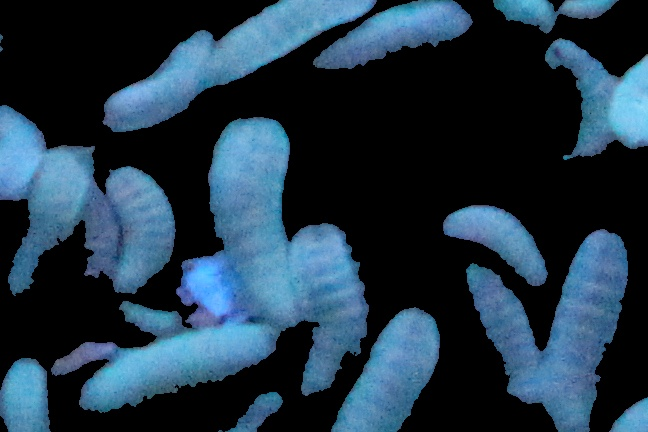larvae: (207, 118, 298, 326), (77, 325, 279, 412), (542, 229, 628, 432), (336, 305, 446, 432), (212, 1, 372, 83), (12, 145, 100, 291), (287, 220, 374, 356), (312, 2, 472, 72), (101, 30, 211, 131), (99, 158, 178, 290), (467, 265, 541, 401), (545, 39, 617, 164), (442, 206, 545, 286), (2, 103, 49, 200), (611, 53, 648, 150), (2, 356, 48, 432)
